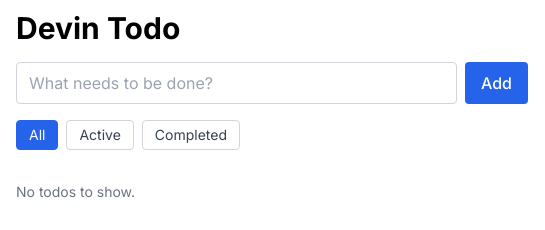
Scenario: Todo app › deletes a todo
Type "task" into the field named "New todo" at (236, 83), box [16, 62, 457, 104]
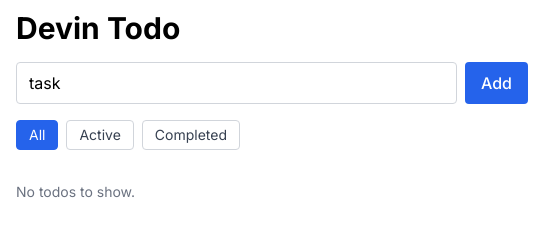
Click the button "Add" at (496, 83), box [465, 62, 528, 104]
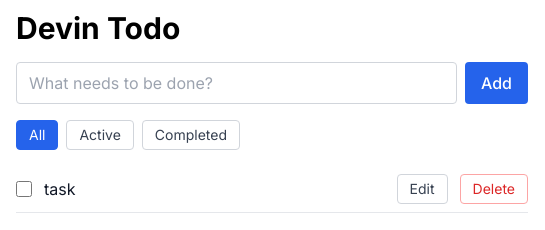
Click the button "Delete" at (494, 189), box [460, 174, 528, 204]
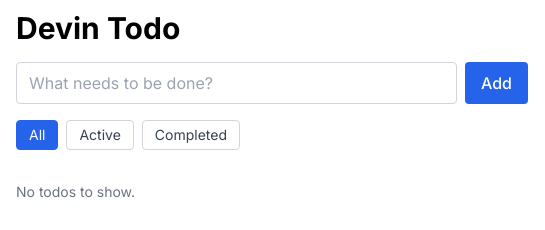
Expected: the list item "task Edit Delete" is gone
